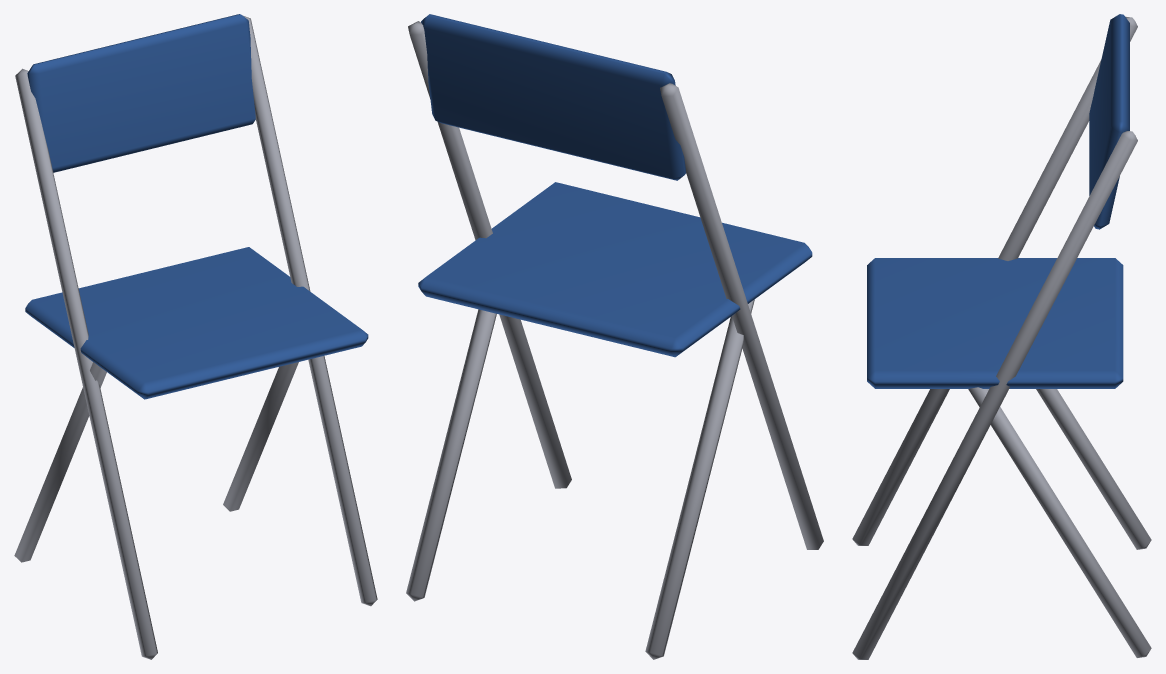
Rendered from folding_chair.glb.
3 views of the same model, side by side, from view 1: azimuth 30°, elevation 25°; view 2: azimuth 150°, elevation 25°; view 3: azimuth 270°, elevation 25° (orthographic). The views are drawn at different scales.
Visible parts, largest first — view 1: folding_chair; view 2: folding_chair; view 3: folding_chair.
Part boxes in pixels (<box>): folding_chair: <box>14,14,377,659</box>; folding_chair: <box>406,14,823,659</box>; folding_chair: <box>852,14,1151,659</box>.
Bounding box in the file's own units: 0.4253 × 0.8764 × 0.4442.
